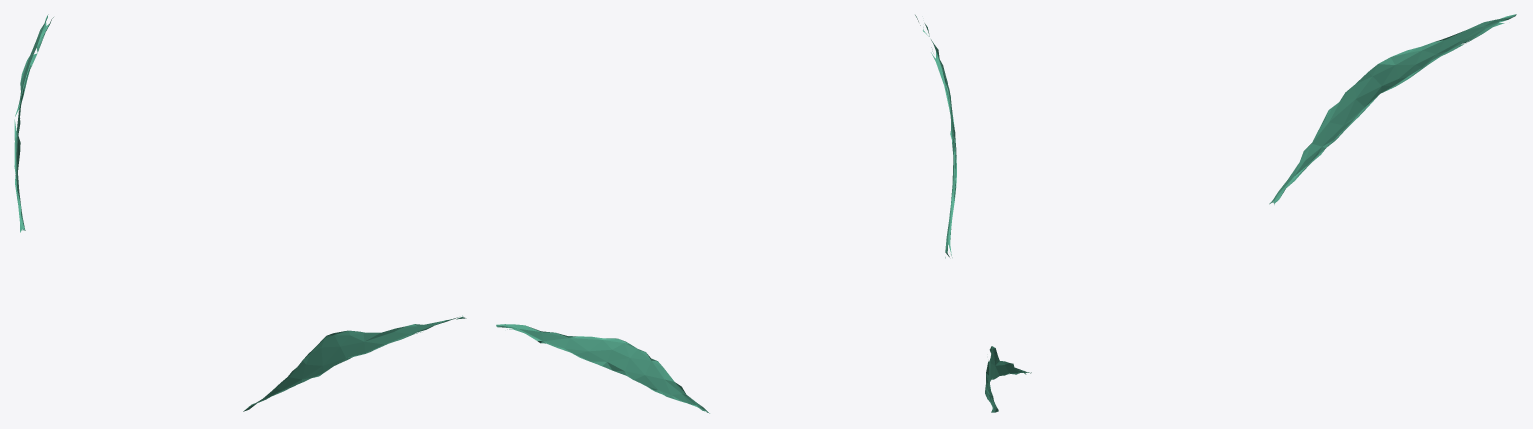
3 views of the same model, side by side, from view 1: azimuth 30°, elevation 25°; view 2: azimuth 150°, elevation 25°; view 3: azimuth 330°, elevation 25° (orthographic). The views are drawn at different scales.
Parts seen in each view (by area): view 1: 831.obj; view 2: 831.obj; view 3: 831.obj.
Part boxes in pixels (<box>): 831.obj: <box>14,14,466,411</box>; 831.obj: <box>496,15,956,413</box>; 831.obj: <box>985,14,1516,412</box>.
Bounding box in the file's own units: 1157 × 1157 × 6281.
